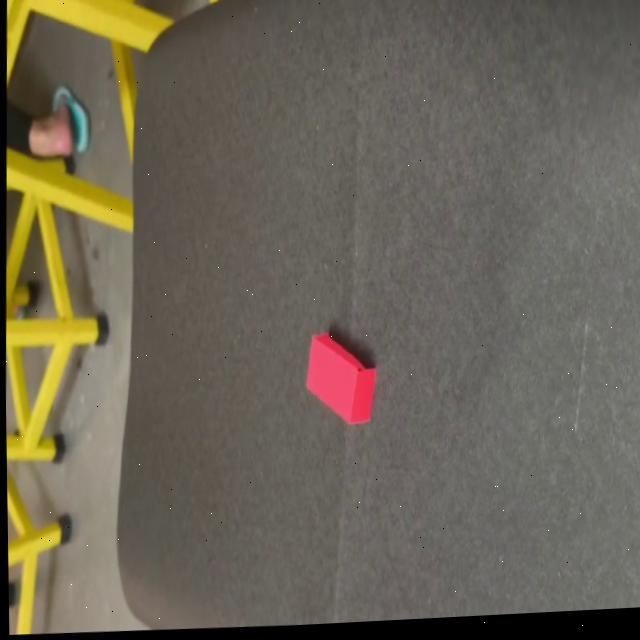red block: (302, 327, 376, 426)
